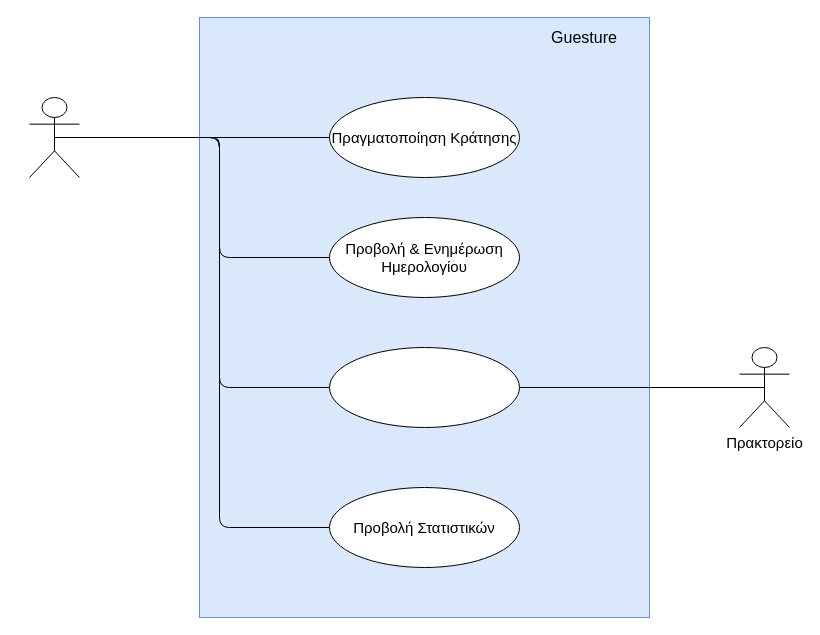
This 820x635 diagram has some shape labels left out. Each missing label, with the box of its shape:
Αποστολή Αξιολόγησης: (328, 346, 520, 428)
Ξενοδοχείο: (28, 96, 80, 178)
